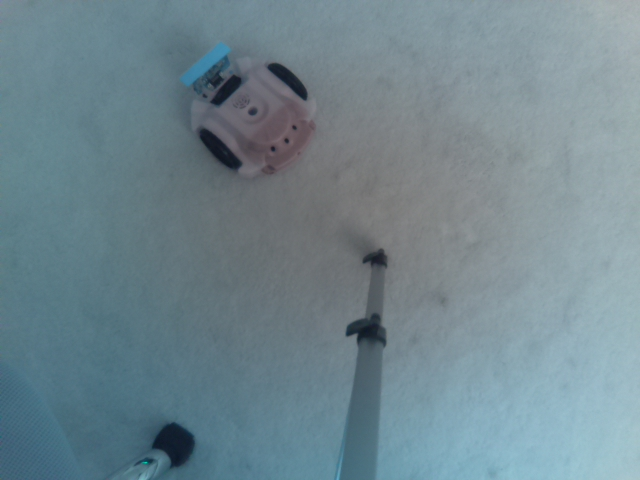board: (179, 43, 237, 93)
chassis: (176, 33, 322, 186)
